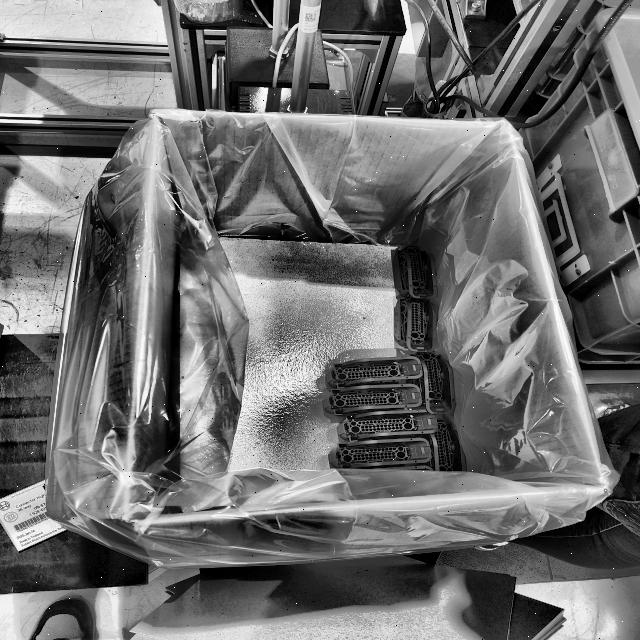P38: (323, 383, 424, 416), (338, 410, 438, 442), (327, 356, 423, 389), (328, 438, 433, 468), (409, 352, 456, 415), (392, 245, 438, 299), (394, 297, 438, 353), (429, 415, 466, 471), (368, 465, 434, 473)
